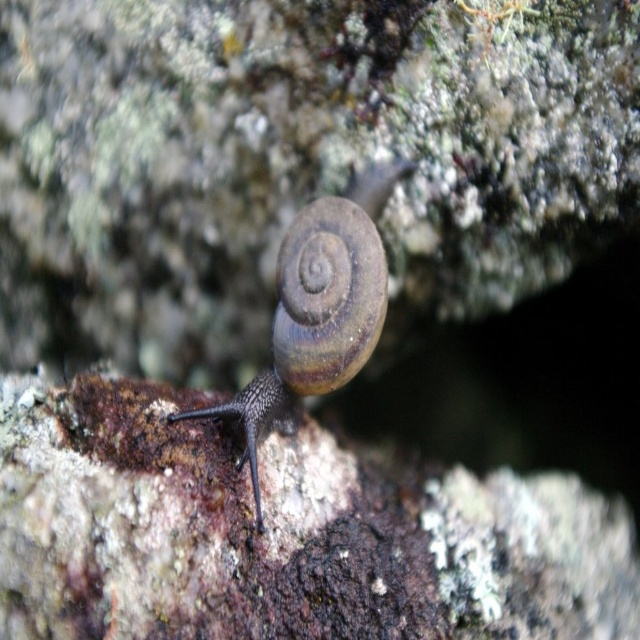Snail: (164, 154, 419, 538)
